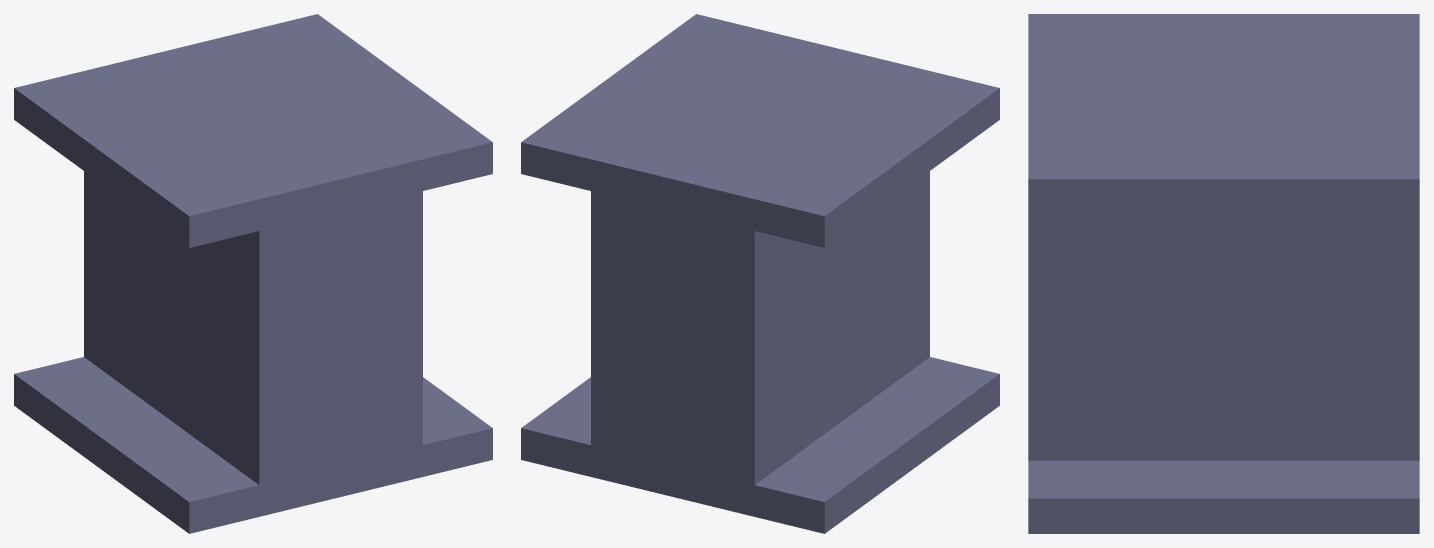
File: IBeam.fbx
The picture shows the model from 3 angles, left to right: view 1: azimuth 30°, elevation 25°; view 2: azimuth 150°, elevation 25°; view 3: azimuth 270°, elevation 25°; orthographic projection. The views are drawn at different scales.
Visible parts, largest first — view 1: IBeam; view 2: IBeam; view 3: IBeam.
Boxes of the visible parts, <box> form: IBeam: <box>14,14,492,533</box>; IBeam: <box>521,14,999,533</box>; IBeam: <box>1028,14,1419,533</box>.
Size of the model in its own units: 100 by 100 by 100.
